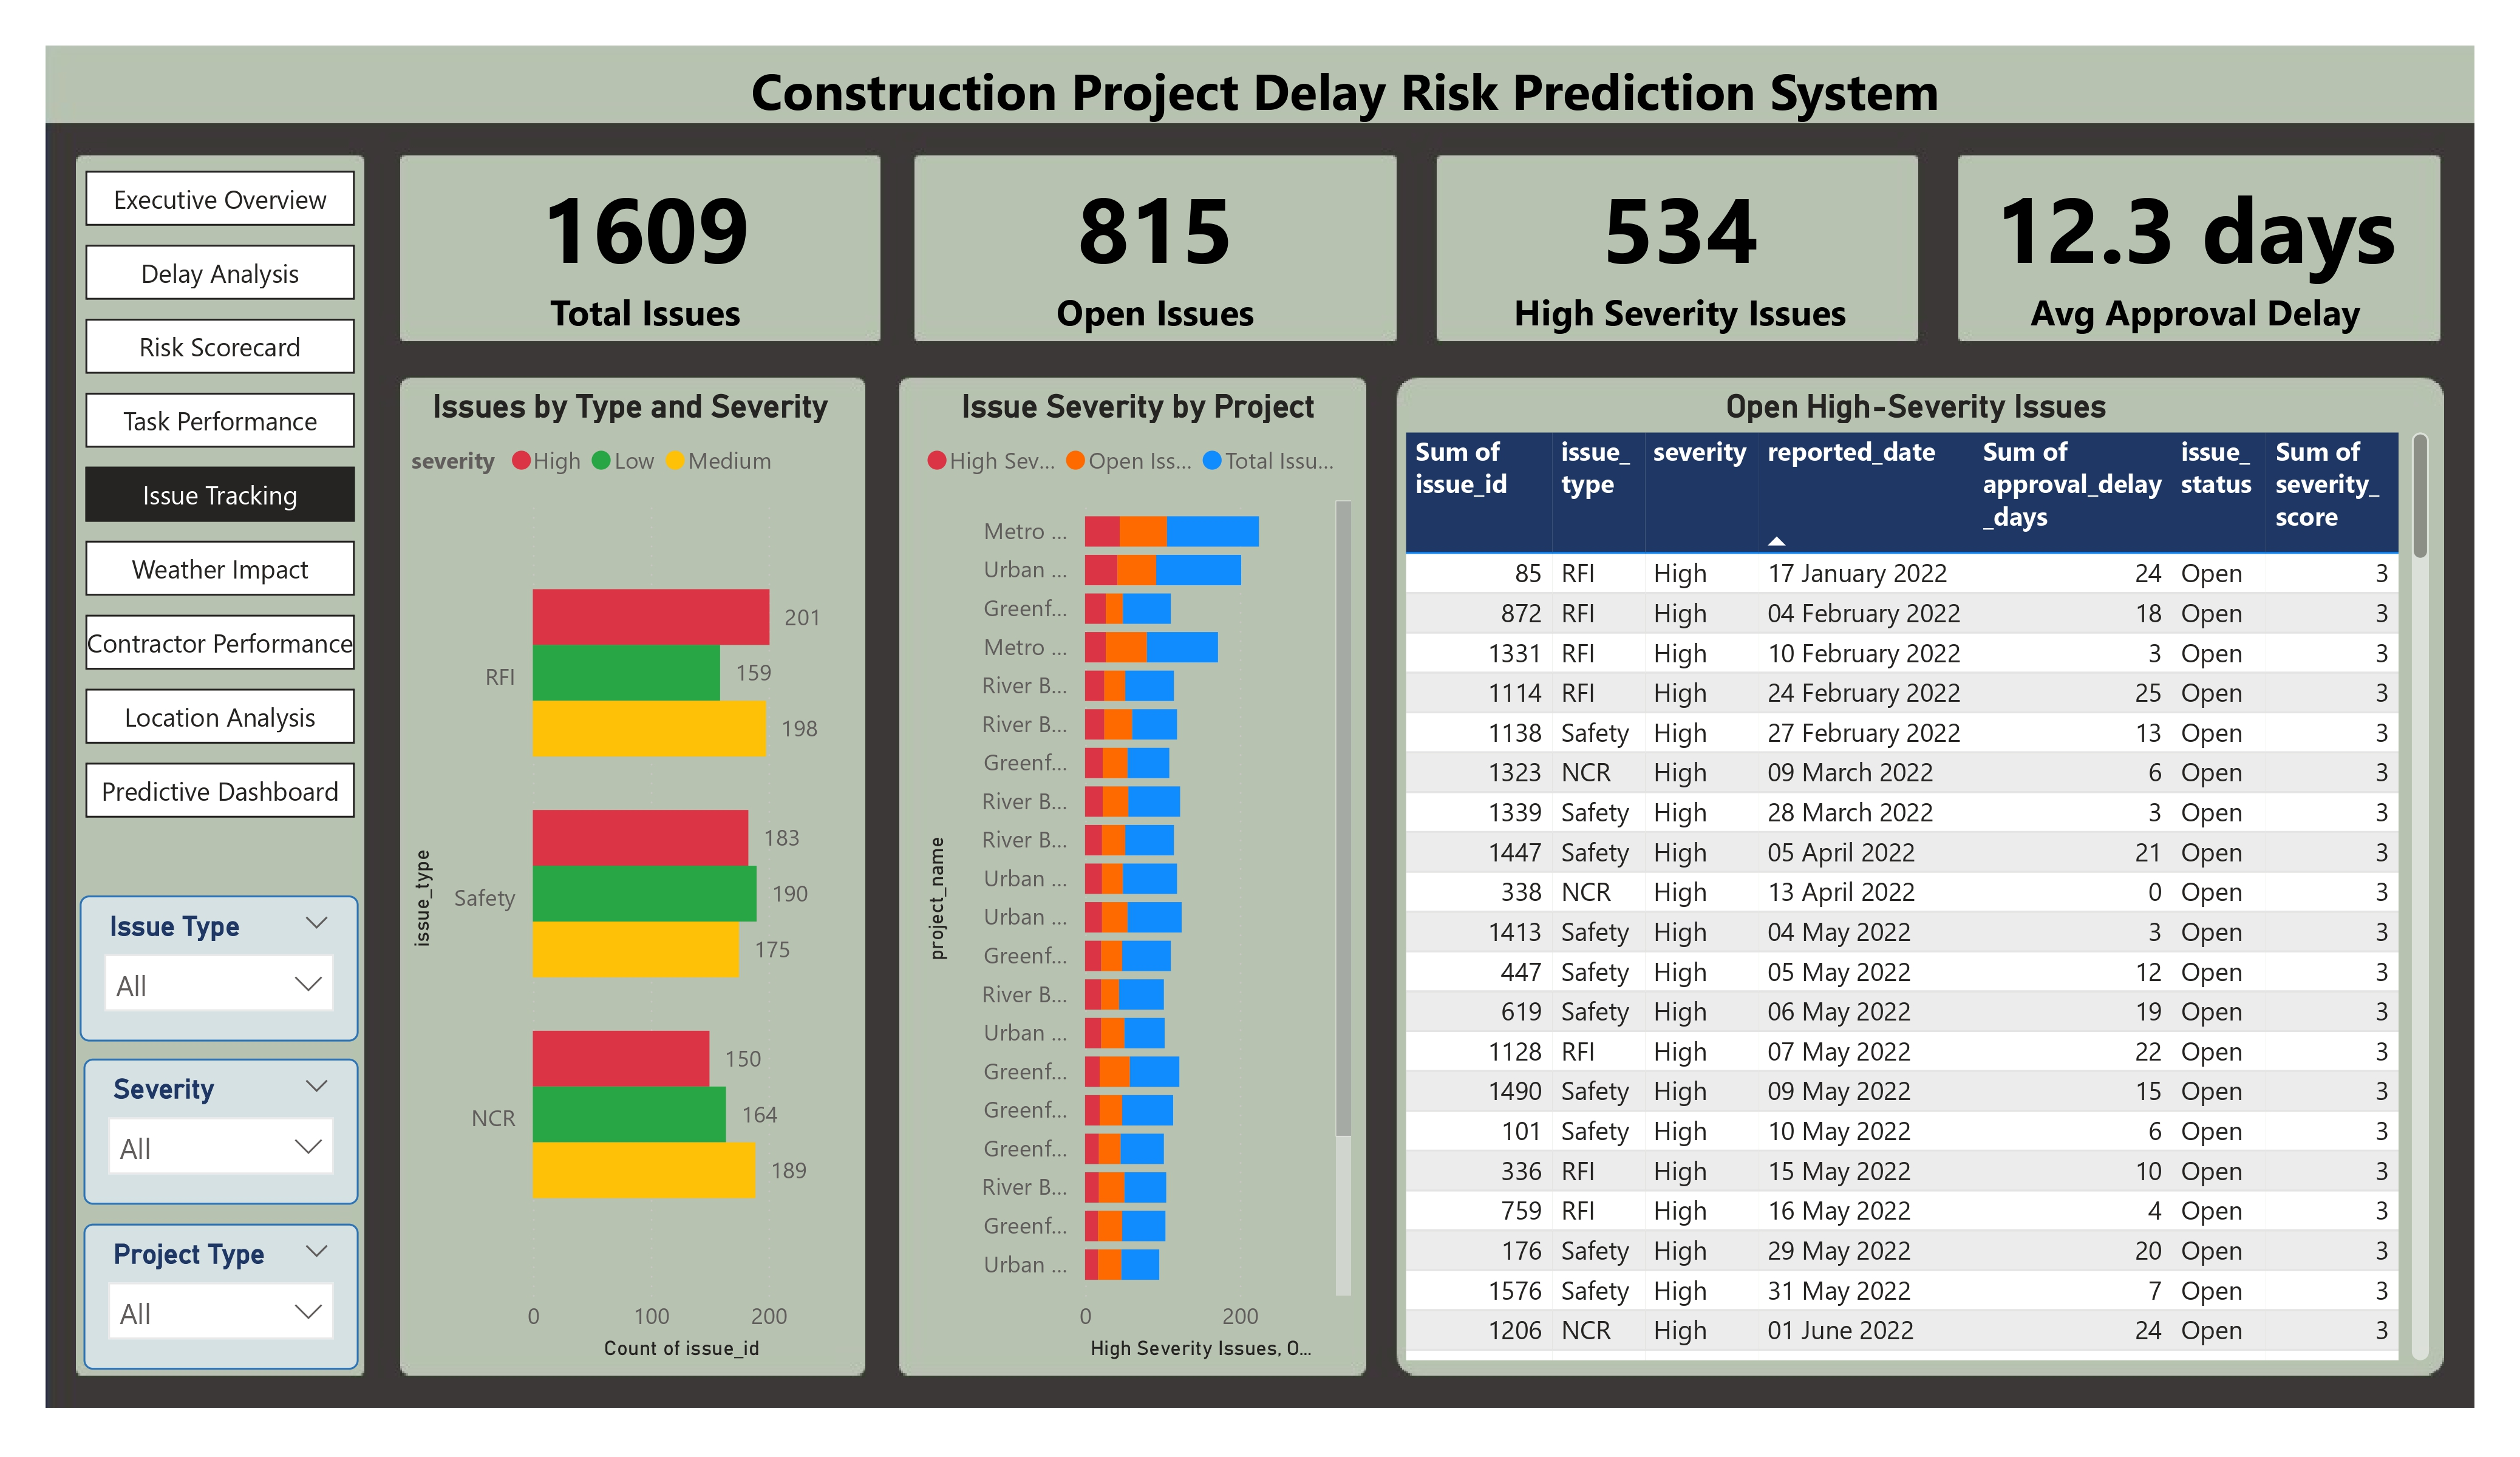

What the dashboard file says about the page in this screenshot:
{"tool":"powerbi","page":{"name":"Issue Tracking","canvas":[1280,720],"ordinal":4},"visuals":[{"type":"card","fields":{"Values":["**Measures**.Total Issues"]},"box":[187.5,56.2,256.2,101.2],"z":0},{"type":"card","fields":{"Values":["**Measures**.Open Issues"]},"box":[458.8,56.2,252.5,101.2],"z":1000},{"type":"card","fields":{"Values":["**Measures**.High Severity Issues"]},"box":[735,56.2,252.5,101.2],"z":2000},{"type":"card","fields":{"Values":["**Measures**.Avg Approval Delay"]},"box":[1005,56.2,256.2,101.2],"z":3000},{"type":"clusteredBarChart","title":"Issues by Type and Severity","fields":{"Category":["factissues.issue_type"],"Y":["CountNonNull(factissues.issue_id)"],"Series":["factissues.severity"]},"box":[187.5,180,241.2,517.5],"z":4000},{"type":"barChart","title":"Issue Severity by Project","fields":{"Category":["factprojectmetrics.project_name"],"Y":["**Measures**.High Severity Issues","**Measures**.Open Issues","**Measures**.Total Issues"]},"box":[458.8,180,233.8,517.5],"z":5000},{"type":"tableEx","title":"Open High-Severity Issues","fields":{"Values":["Sum(factissues.issue_id)","factissues.issue_type","factissues.severity","factissues.reported_date","Sum(factissues.approval_delay_days)","factissues.issue_status","Sum(factissues.severity_score)"]},"box":[711.2,180,550,517.5],"z":6000},{"type":"slicer","fields":{"Values":["factissues.issue_type"]},"box":[17.7,447.5,147.5,77.5],"z":7000},{"type":"slicer","fields":{"Values":["factissues.severity"]},"box":[20.2,533.8,145,77.5],"z":8000},{"type":"slicer","fields":{"Values":["factissues.issue_status"]},"box":[20.2,621.2,145,76.2],"z":9000},{"type":"pageNavigator","box":[21.2,66.2,141.2,343.8],"z":10000},{"type":"textbox","box":[366.7,0,656,56],"z":10001}]}

Visuals, with their boxes on the page's 1280x720 design canvas (x1, y1, x2, y2). These are canvas units, not pixel positions in the 2520x1457 screenshot, which may show the page scaled, cropped or inside an application window:
card - **Measures**.Total Issues: region(188, 56, 444, 157)
card - **Measures**.Open Issues: region(459, 56, 711, 157)
card - **Measures**.High Severity Issues: region(735, 56, 988, 157)
card - **Measures**.Avg Approval Delay: region(1005, 56, 1261, 157)
"Issues by Type and Severity" clusteredBarChart: region(188, 180, 429, 698)
"Issue Severity by Project" barChart: region(459, 180, 693, 698)
"Open High-Severity Issues" tableEx: region(711, 180, 1261, 698)
slicer - factissues.issue_type: region(18, 448, 165, 525)
slicer - factissues.severity: region(20, 534, 165, 611)
slicer - factissues.issue_status: region(20, 621, 165, 697)
pageNavigator: region(21, 66, 162, 410)
textbox: region(367, 0, 1023, 56)
